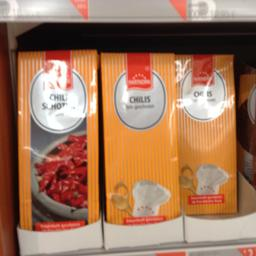spices: (15, 48, 98, 231), (98, 48, 177, 224), (174, 52, 236, 214)
